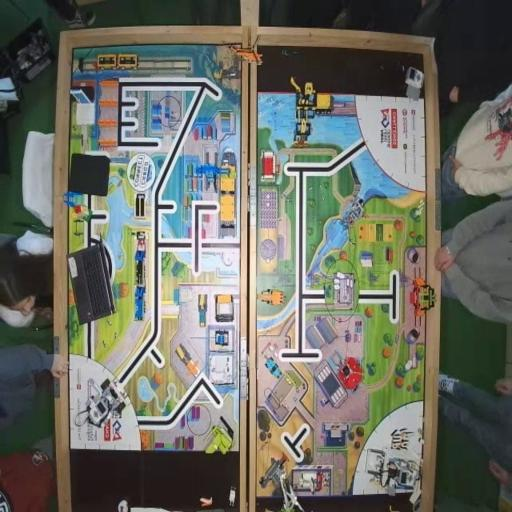lego_robot: (365, 448, 422, 496), (86, 378, 128, 431)
